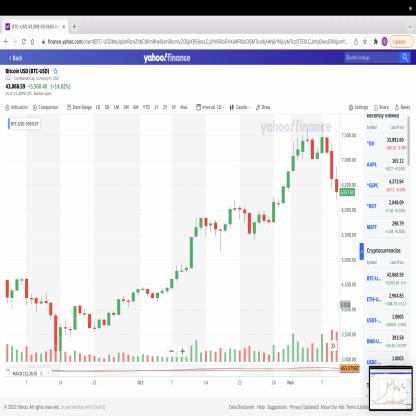Bearish: 3 Black Crows: (324, 135, 339, 202)
Bearish: Evening Star Doji: (300, 127, 315, 162)
Bullish: 3 White Soldiers: (281, 139, 295, 208), (189, 214, 203, 270)
Bullish: Hammer: (213, 218, 227, 255)
